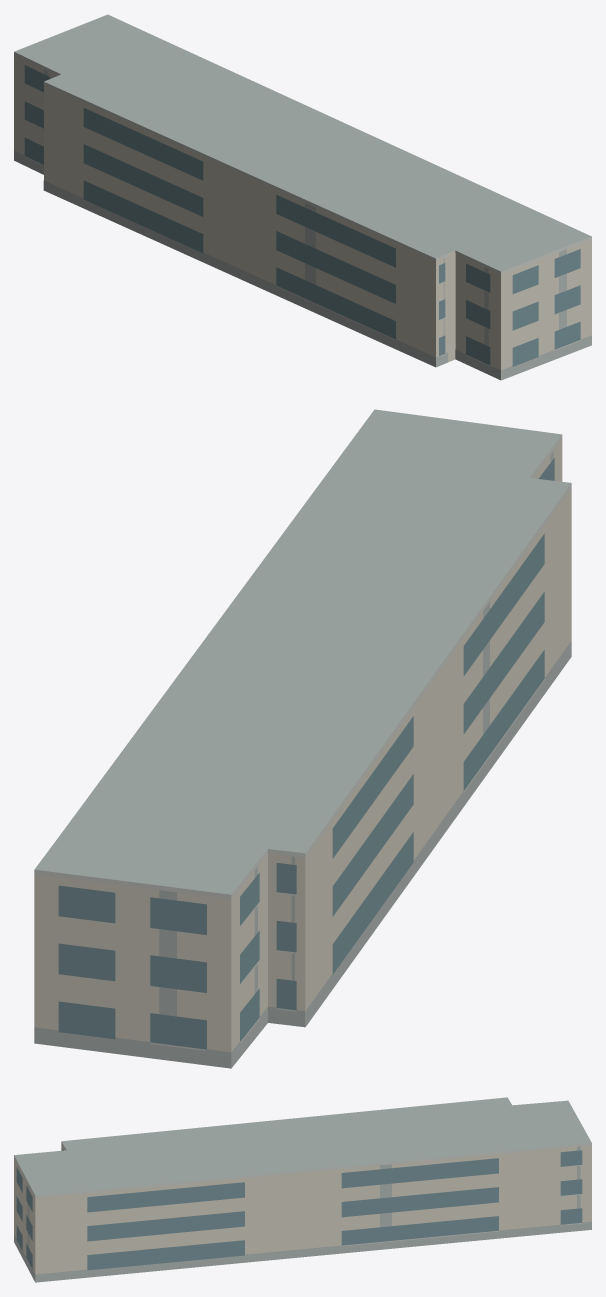
The model's file is survey-upis-32512543.glb.
3 views of the same model, one above another, from view 1: azimuth 30°, elevation 25°; view 2: azimuth 150°, elevation 25°; view 3: azimuth 270°, elevation 25° (orthographic). The views are drawn at different scales.
Parts seen in each view (by area): view 1: survey-upis-32512543.tmp; view 2: survey-upis-32512543.tmp; view 3: survey-upis-32512543.tmp.
Boxes of the visible parts, x1,y1,x2,y2 form: survey-upis-32512543.tmp: [14, 14, 591, 380]; survey-upis-32512543.tmp: [34, 409, 571, 1068]; survey-upis-32512543.tmp: [14, 1097, 591, 1282].
Bounding box in the file's own units: 22.21 × 9.15 × 55.14.
